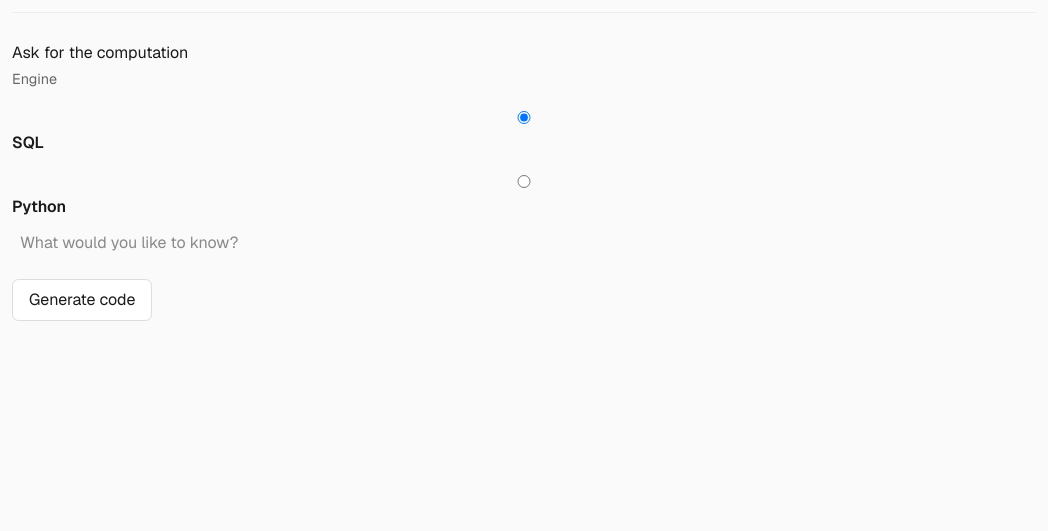
Test: the editable proposal (W2X-006) › shows the proposal in an editor, not a read-only pre
In the field named "question for code generation": (524, 243) [12,223,1036,263], type "revenue by month"
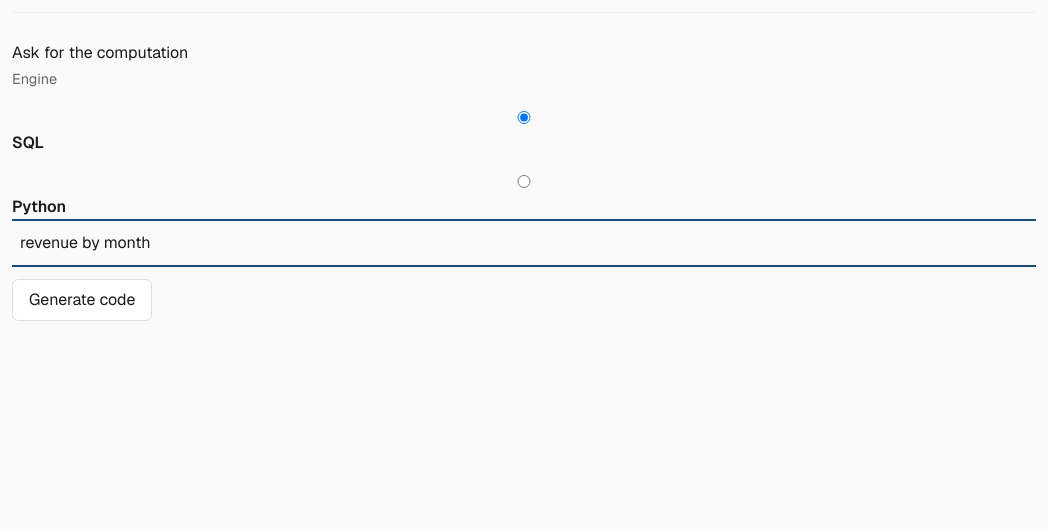
Click the button "Generate code": (82, 300) [12,279,152,321]
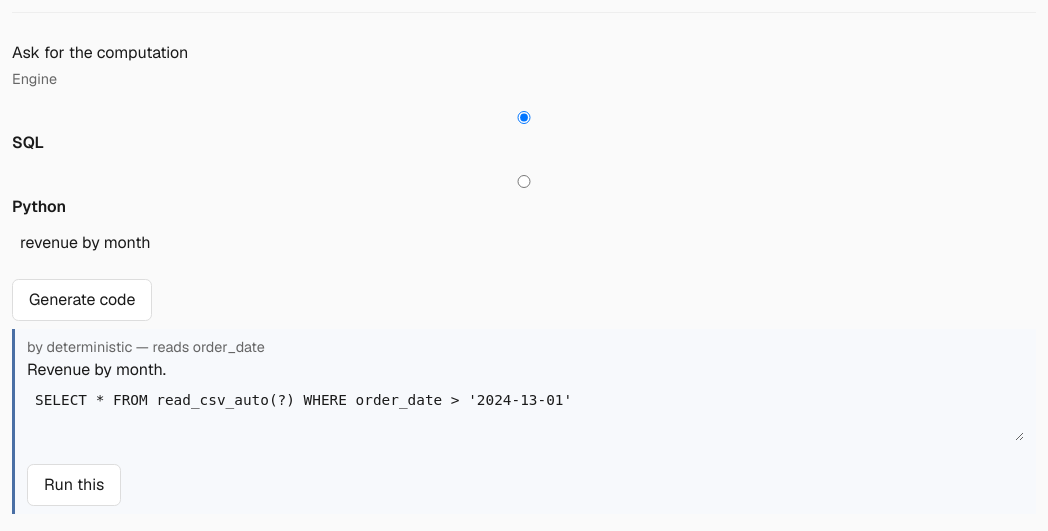
Now the text "Revenue by month." is shown, box [27,359,166,380]
Now the text box named "code to run" holds "SELECT * FROM read_csv_auto(?) WHERE order_date > '2024-13-01'", box [27,382,1024,441]
